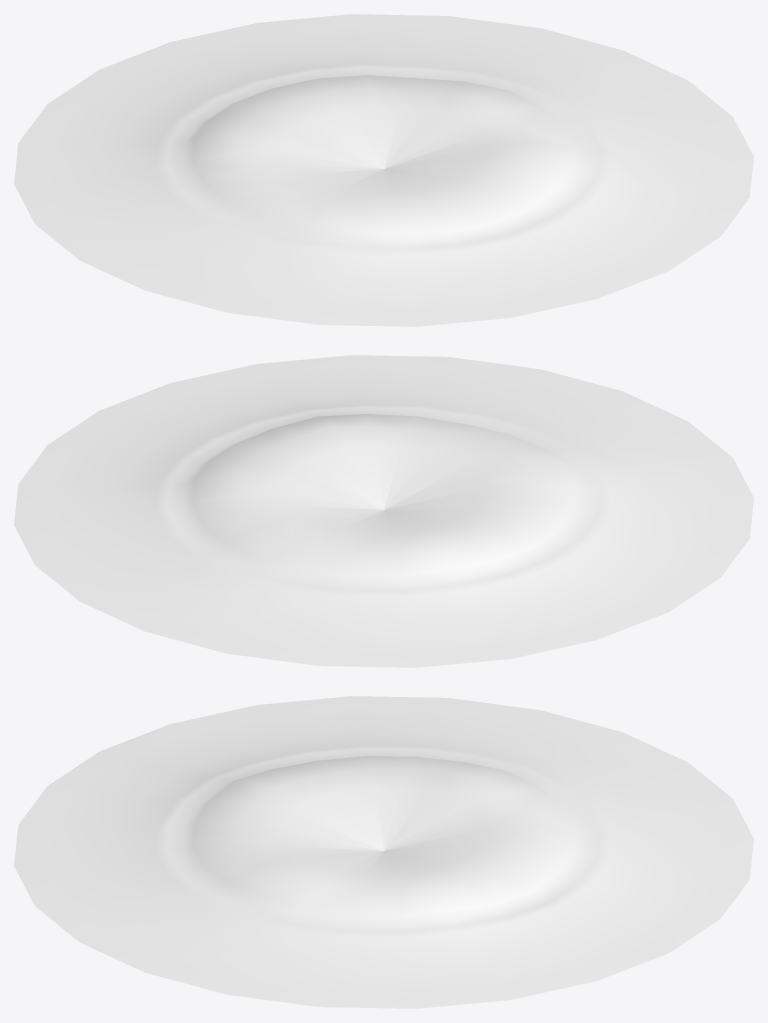
File: VFX_Circle.fbx
The picture shows the model from 3 angles, top to bottom: view 1: azimuth 30°, elevation 25°; view 2: azimuth 150°, elevation 25°; view 3: azimuth 270°, elevation 25°; orthographic projection.
Parts seen in each view (by area): view 1: vfx_Circle; view 2: vfx_Circle; view 3: vfx_Circle.
Part boxes in pixels (x1,y1,x2,y2): vfx_Circle: (14, 14, 753, 326); vfx_Circle: (14, 355, 753, 667); vfx_Circle: (14, 696, 753, 1008).
Bounding box in the file's own units: 1771 × 69.58 × 1771.
